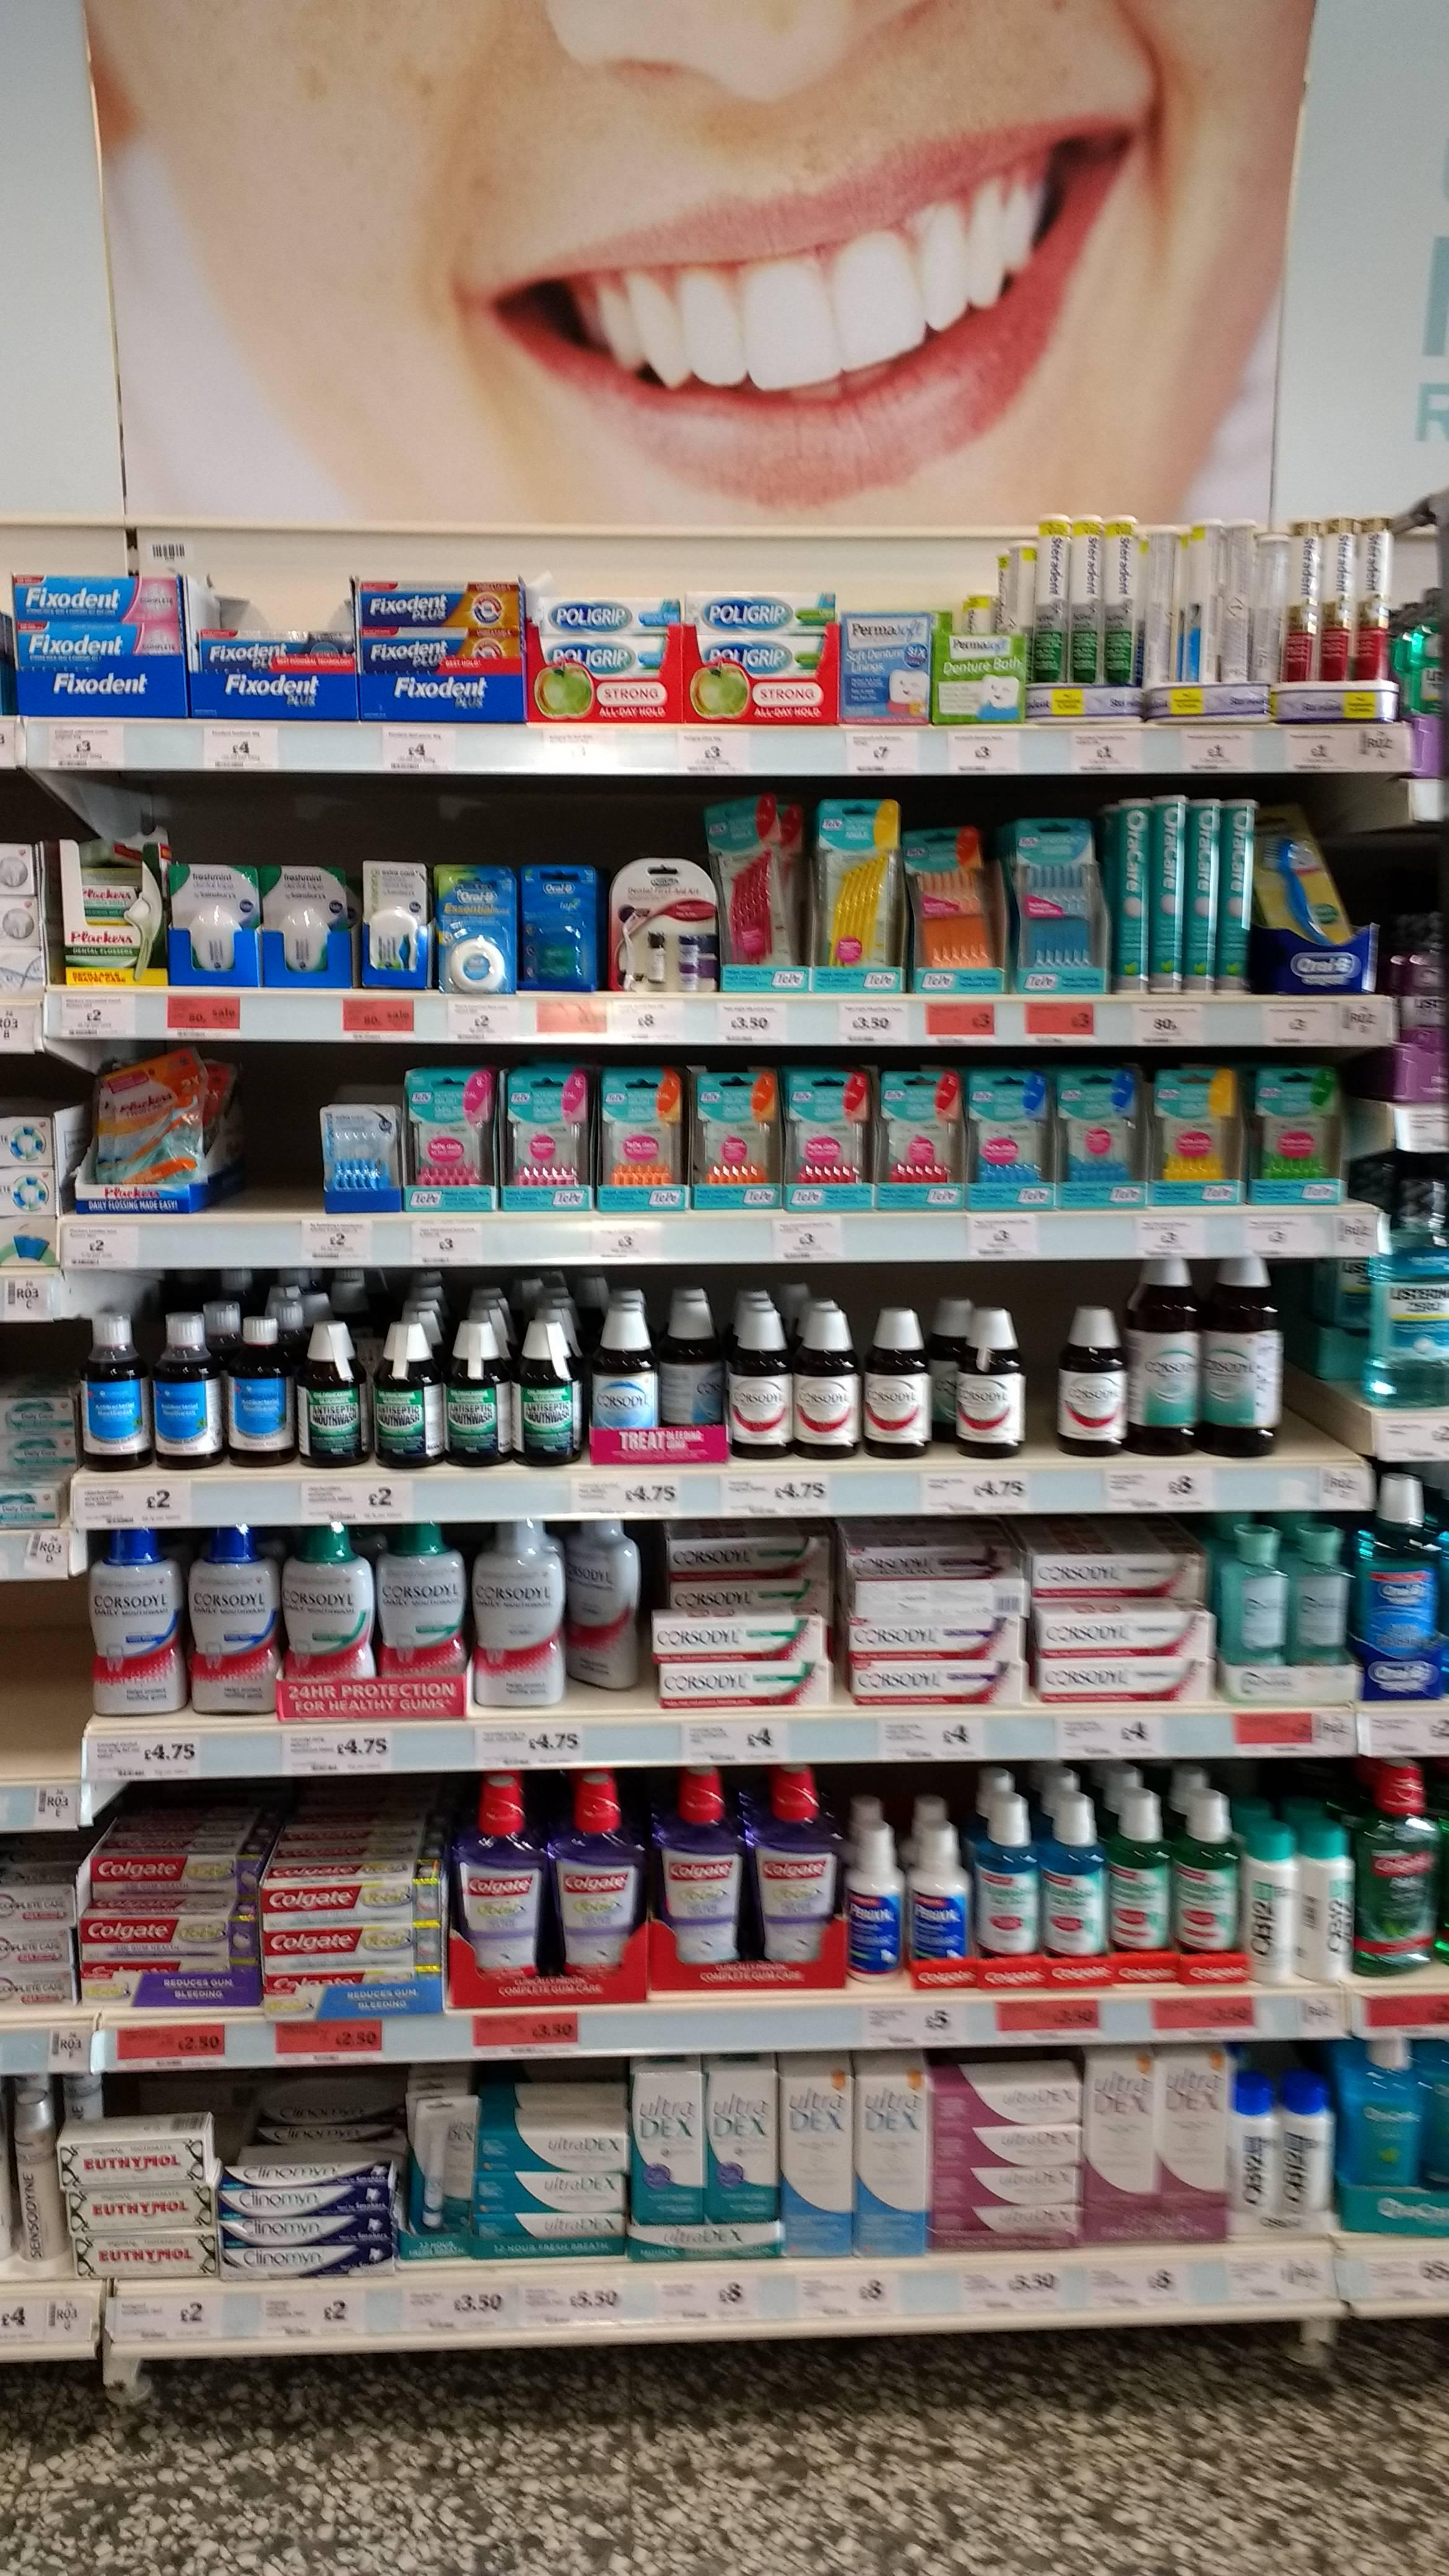empty: (0, 1582, 76, 1773), (1288, 1263, 1362, 1454), (235, 1069, 310, 1203)
